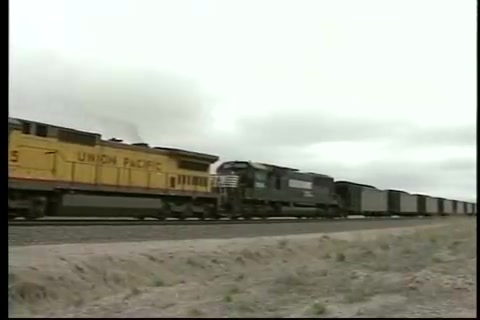train: (10, 114, 477, 220)
